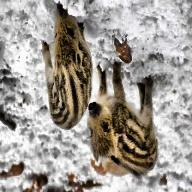boar: (85, 60, 173, 175), (35, 8, 94, 134)
